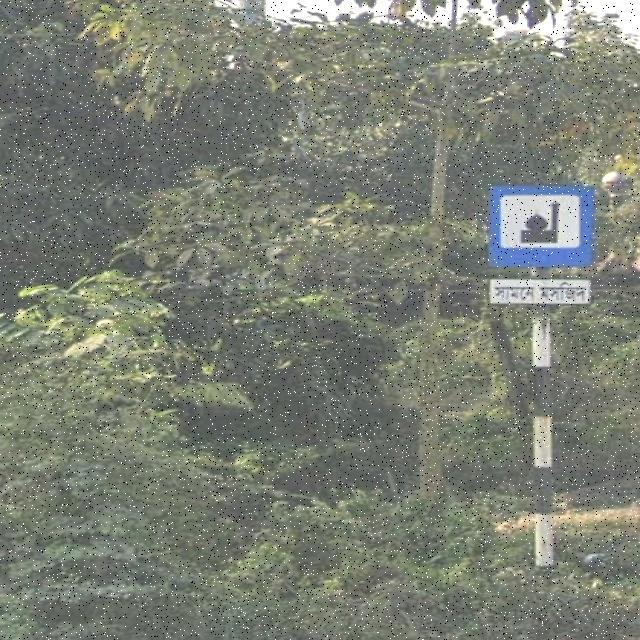Mosque in front: (482, 184, 596, 311)
